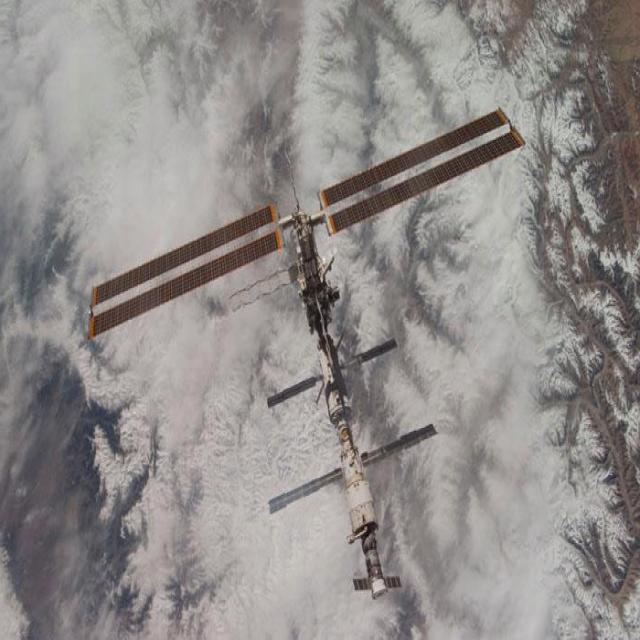satellite: (88, 110, 524, 598)
